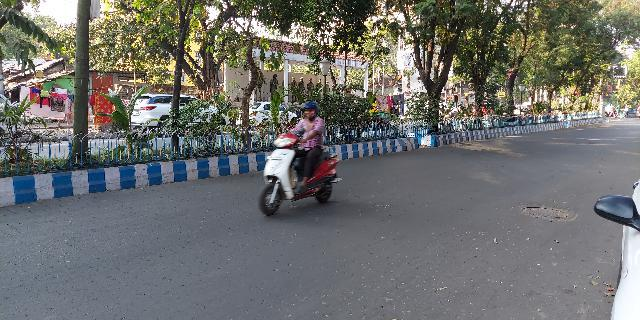Motorbike: (249, 100, 343, 220)
